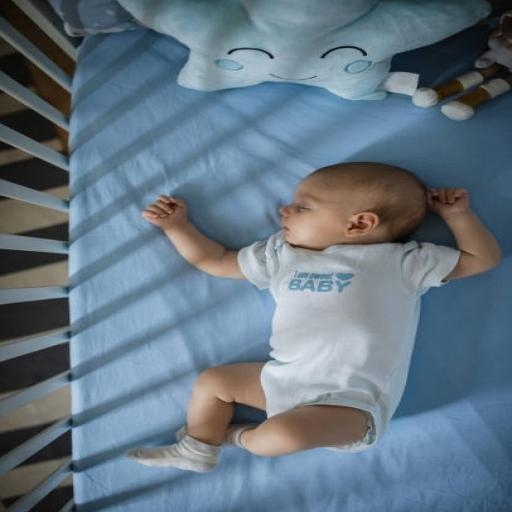baby: (128, 162, 500, 471)
crib: (2, 22, 511, 511)
